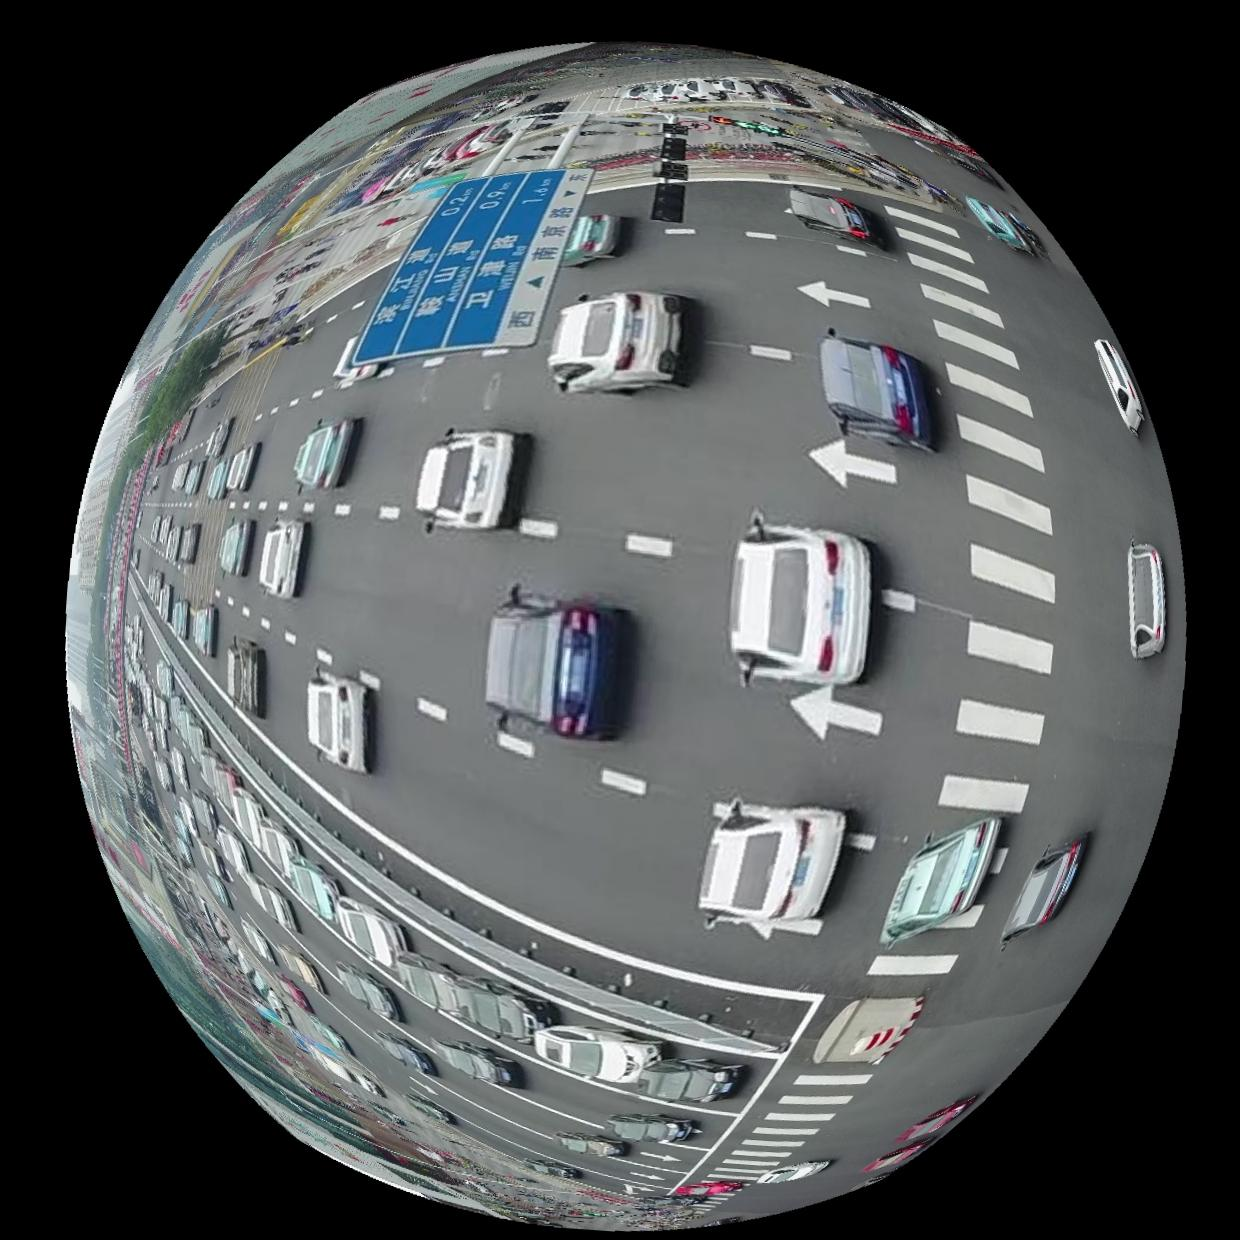cars: (730, 505, 872, 684), (484, 583, 626, 740), (699, 801, 846, 922), (881, 816, 1004, 947), (548, 287, 695, 393), (819, 328, 937, 449), (414, 428, 528, 528), (1003, 833, 1090, 947), (534, 1024, 663, 1084), (455, 975, 554, 1044), (307, 669, 369, 772), (789, 183, 886, 246), (335, 896, 407, 966), (292, 414, 359, 487), (637, 1059, 745, 1104), (1097, 336, 1147, 432), (1129, 539, 1168, 657), (432, 1040, 522, 1088), (334, 962, 401, 1022), (394, 952, 459, 1013), (258, 517, 307, 596), (898, 1095, 978, 1141), (287, 854, 340, 920), (561, 210, 623, 265), (226, 635, 263, 718), (374, 1030, 436, 1076), (249, 879, 298, 932), (606, 1115, 697, 1143), (332, 334, 380, 384), (864, 1142, 933, 1176), (259, 818, 299, 877), (277, 946, 325, 994), (218, 517, 253, 576), (232, 786, 263, 849), (554, 1132, 629, 1158), (759, 1161, 832, 1185), (225, 441, 259, 488), (240, 918, 274, 963), (192, 602, 217, 655), (525, 1158, 581, 1181), (204, 456, 228, 498), (167, 596, 190, 638)
